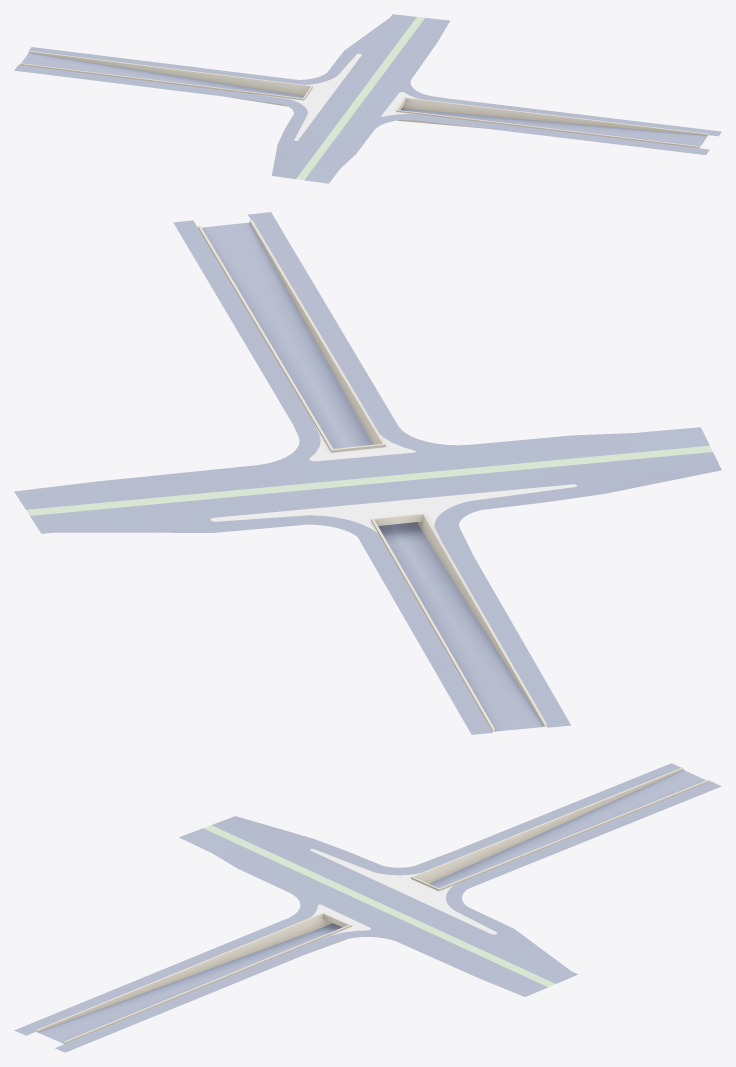
Rendered from Al-Seifullin-colored.glb.
3 views of the same model, one above another, from view 1: azimuth 30°, elevation 25°; view 2: azimuth 150°, elevation 25°; view 3: azimuth 270°, elevation 25° (orthographic). The views are drawn at different scales.
Parts seen in each view (by area): view 1: group_1.001, group_1, group_4, group_2, group_5, group_0; view 2: group_1.001, group_1, group_2, group_4, group_0, group_5; view 3: group_1.001, group_1, group_2, group_4, group_0, group_5.
Boxes of the visible parts, bbox=[...] form: group_1.001: bbox=[14, 14, 416, 179]; group_1: bbox=[304, 18, 721, 183]; group_4: bbox=[19, 51, 708, 148]; group_2: bbox=[21, 53, 707, 146]; group_5: bbox=[253, 53, 418, 140]; group_0: bbox=[296, 17, 424, 180]; group_1.001: bbox=[30, 452, 721, 734]; group_1: bbox=[14, 212, 709, 509]; group_2: bbox=[202, 222, 543, 731]; group_4: bbox=[198, 220, 546, 731]; group_0: bbox=[26, 445, 712, 515]; group_5: bbox=[210, 424, 576, 539]; group_1.001: bbox=[211, 763, 721, 983]; group_1: bbox=[14, 828, 547, 1052]; group_2: bbox=[38, 770, 705, 1043]; group_4: bbox=[36, 767, 709, 1043]; group_0: bbox=[203, 825, 555, 987]; group_5: bbox=[310, 849, 497, 940].
Bounding box in the file's own units: 363 × 8 × 375.
4 materials, 3 textured.
